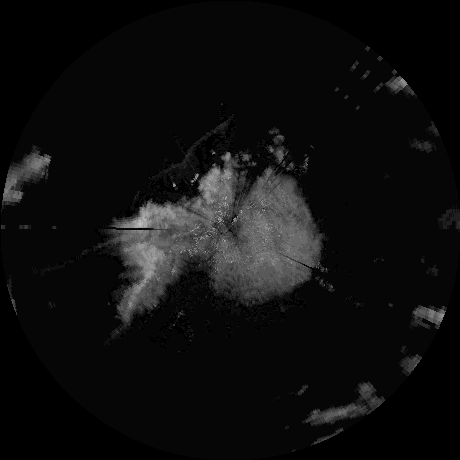frontgust: (162, 123, 226, 174)
